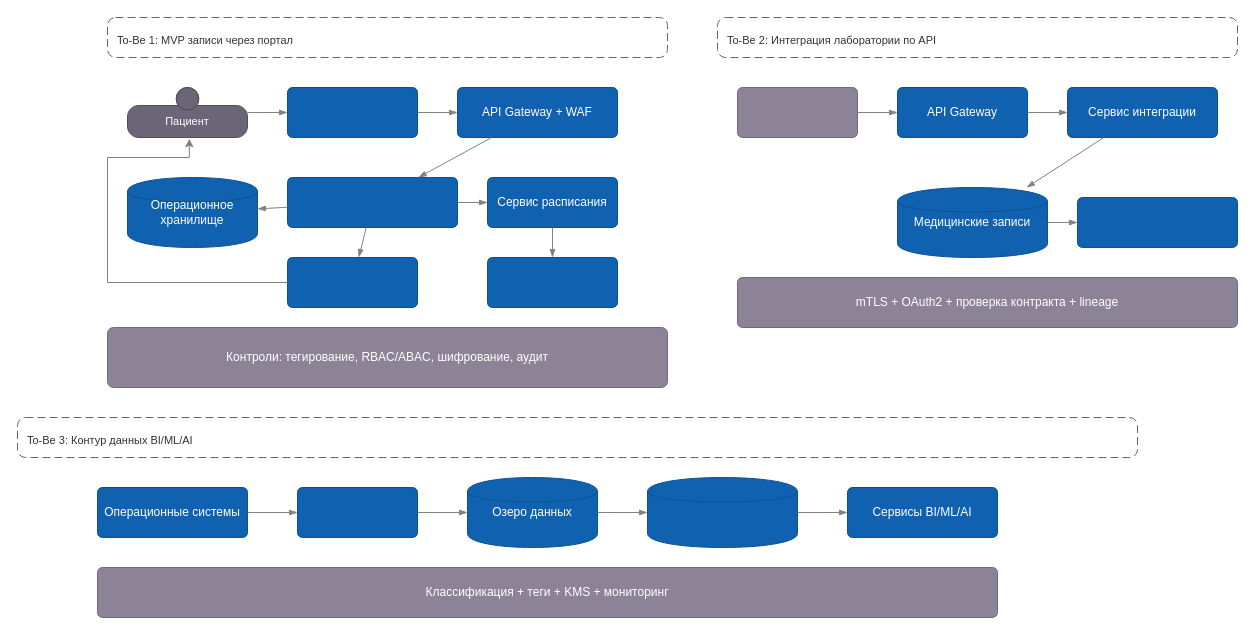
The diagram is 1255 pixels wide and 635 high, and some of its shapes have lost their labels. The centre of each missing label's shape, as x and y in pixels:
"CRM/сервис записи" belongs at (x=372, y=202).
"ETL/ELT" belongs at (x=357, y=512).
"Клиентский портал" belongs at (x=352, y=112).
"Мобильное приложение (только свои данные)" belongs at (x=1157, y=222).
"Обезличенные витрины" belongs at (x=722, y=512).
"Партнёр-лаборатория" belongs at (x=797, y=112).
"Портал ресепшена" belongs at (x=552, y=282).
"Уведомления" belongs at (x=352, y=282).
